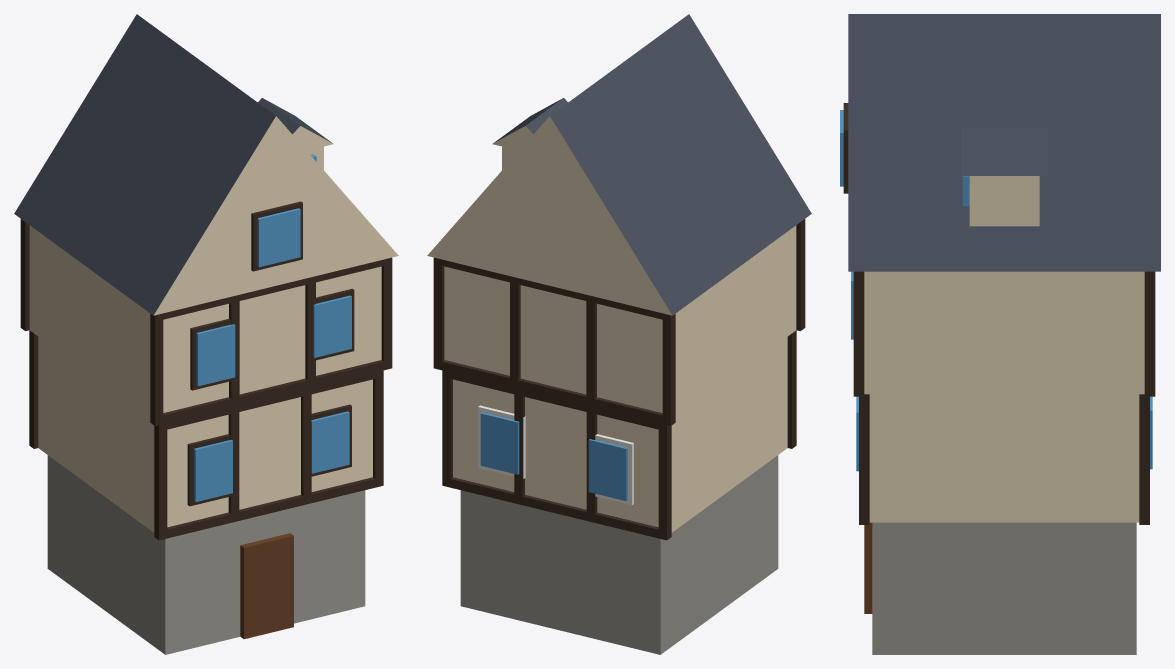
Rendered from 23_mosel_house_2.obj.
3 renders of one model, left to right at view 1: azimuth 30°, elevation 25°; view 2: azimuth 150°, elevation 25°; view 3: azimuth 270°, elevation 25°, orthographic. The views are drawn at different scales.
Parts seen in each view (by area): view 1: 23_mosel_house_2; view 2: 23_mosel_house_2; view 3: 23_mosel_house_2.
Boxes of the visible parts, left/top/right/bottom form: 23_mosel_house_2: left=14, top=14, right=398, bottom=654; 23_mosel_house_2: left=427, top=14, right=811, bottom=654; 23_mosel_house_2: left=840, top=14, right=1160, bottom=654.
Bounding box in the file's own units: 1.18 × 2.4 × 1.19.
